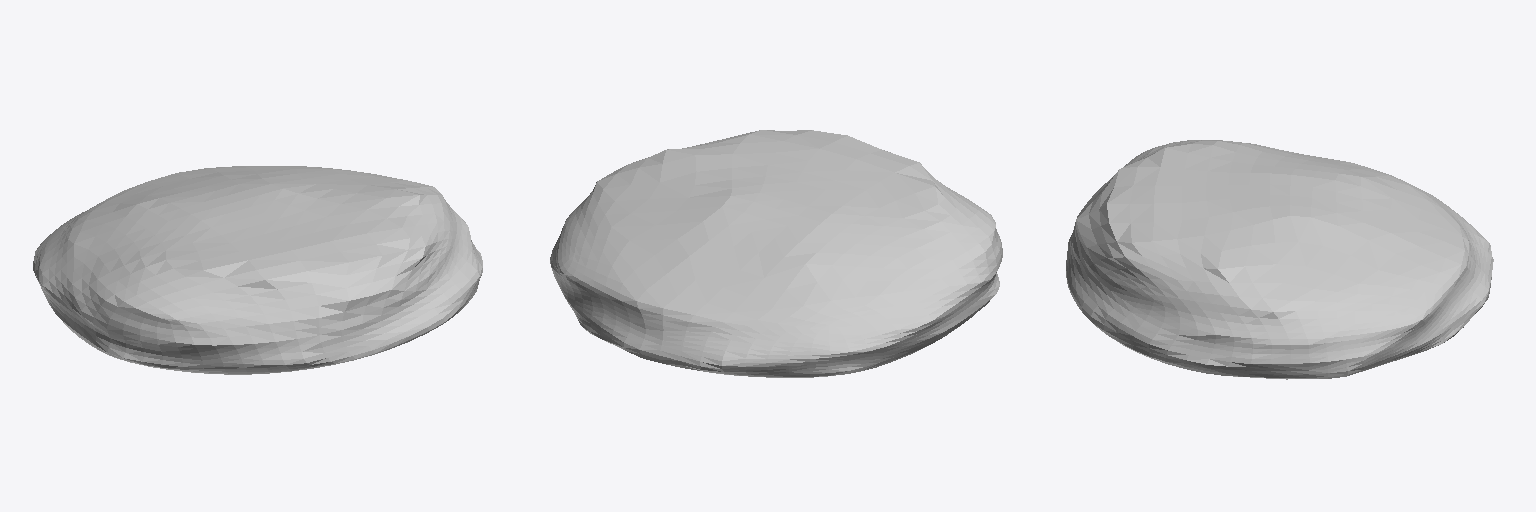
Rendered from 02_pancake.obj.
3 views of the same model, side by side, from view 1: azimuth 30°, elevation 25°; view 2: azimuth 150°, elevation 25°; view 3: azimuth 270°, elevation 25° (orthographic).
Parts seen in each view (by area): view 1: Cube.001; view 2: Cube.001; view 3: Cube.001.
Boxes of the visible parts, x1,y1,x2,y2 form: Cube.001: [33, 166, 482, 374]; Cube.001: [550, 130, 1002, 377]; Cube.001: [1066, 140, 1493, 379].
Size of the model in its own units: 0.8879 by 0.2541 by 0.8458.